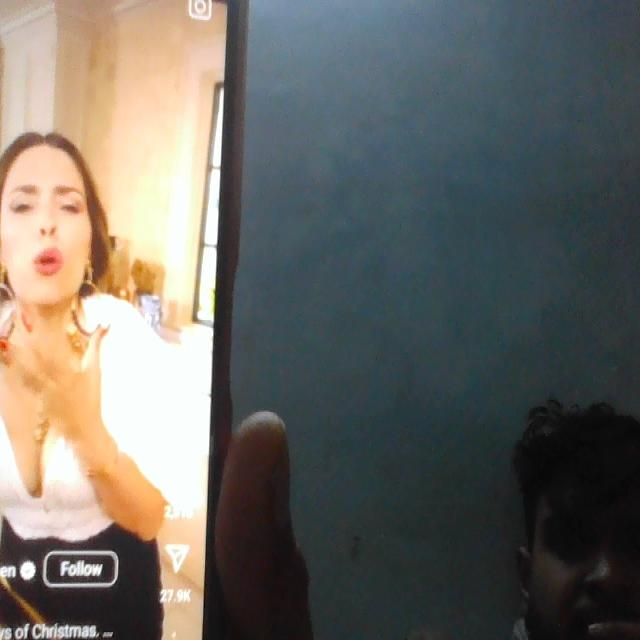fake: (0, 104, 114, 319)
